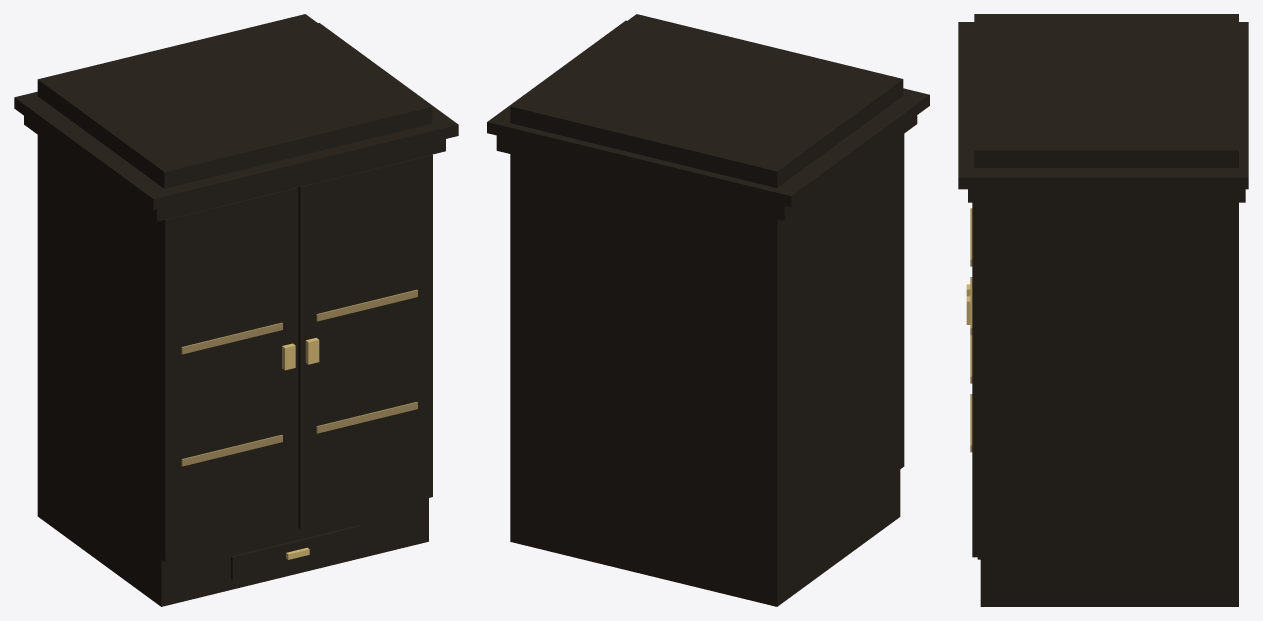
Rendered from Butsudan.gltf.
The picture shows the model from 3 angles, left to right: view 1: azimuth 30°, elevation 25°; view 2: azimuth 150°, elevation 25°; view 3: azimuth 270°, elevation 25°; orthographic projection. The views are drawn at different scales.
Parts seen in each view (by area): view 1: A_Butsudan, Butsudan_Door_L, Butsudan_Door_R, Butsudan_Drawer; view 2: A_Butsudan, Butsudan_Door_L; view 3: A_Butsudan, Butsudan_Door_R.
Part boxes in pixels (bbox=[...]): A_Butsudan: bbox=[14, 14, 458, 606]; Butsudan_Door_L: bbox=[161, 187, 298, 562]; Butsudan_Door_R: bbox=[298, 154, 432, 529]; Butsudan_Drawer: bbox=[231, 525, 360, 579]; A_Butsudan: bbox=[487, 14, 929, 606]; Butsudan_Door_L: bbox=[900, 134, 904, 468]; A_Butsudan: bbox=[958, 14, 1248, 606]; Butsudan_Door_R: bbox=[966, 202, 980, 557].
Bounding box in the file's own units: 0.57 × 0.78 × 0.45.
